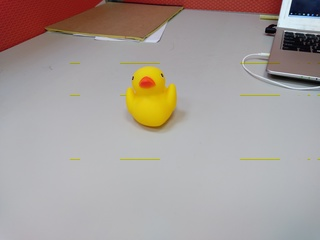duck: (123, 65, 182, 132)
